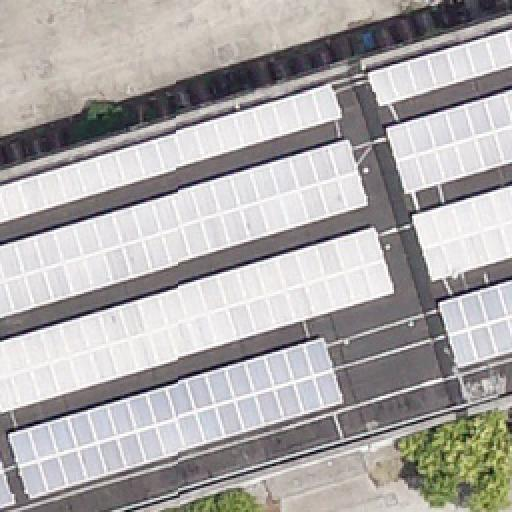solar-panel: (0, 226, 396, 418), (0, 142, 372, 318), (7, 337, 345, 503), (0, 84, 344, 228), (384, 90, 512, 198), (368, 29, 512, 107), (409, 183, 511, 281), (436, 279, 512, 369), (0, 458, 16, 510)
